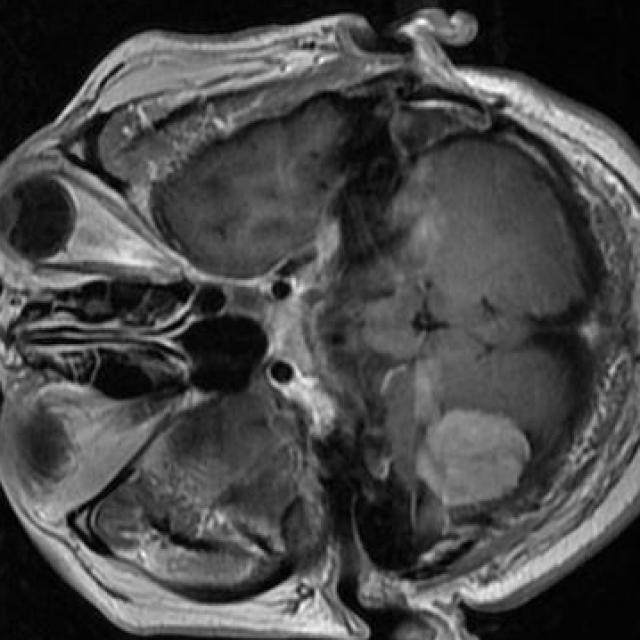meningioma: (415, 412, 531, 512)
